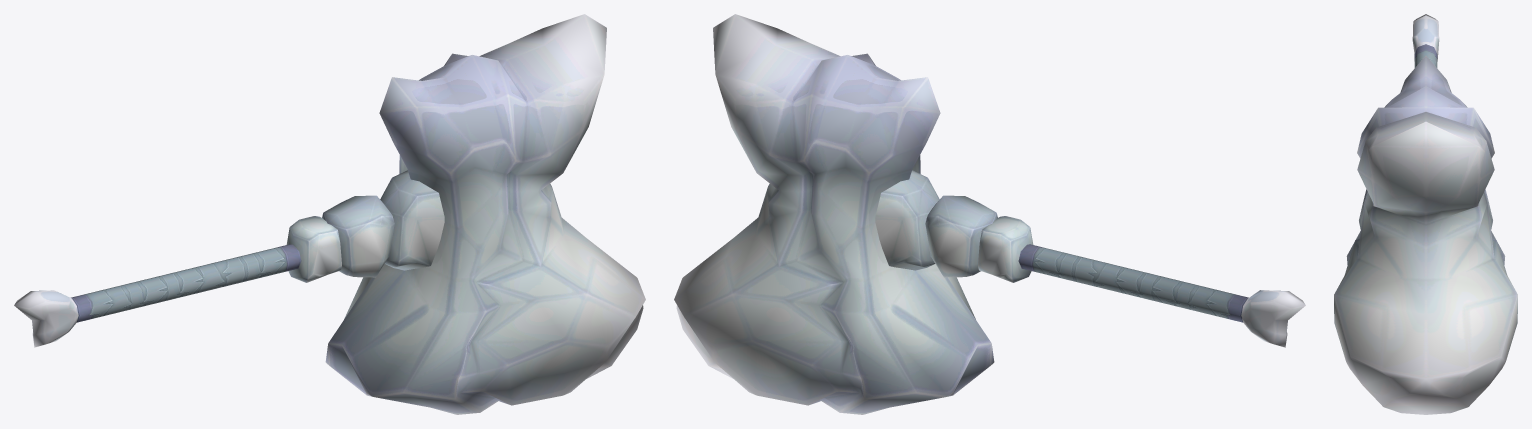
The model's file is item_weaaxtmgm2501-et06.glb.
3 views of the same model, side by side, from view 1: azimuth 30°, elevation 25°; view 2: azimuth 150°, elevation 25°; view 3: azimuth 270°, elevation 25° (orthographic). The views are drawn at different scales.
Parts seen in each view (by area): view 1: FlyffMesh; view 2: FlyffMesh; view 3: FlyffMesh.
Boxes of the visible parts, <box> form: FlyffMesh: <box>14,14,645,414</box>; FlyffMesh: <box>674,14,1305,414</box>; FlyffMesh: <box>1334,14,1517,414</box>.
Bounding box in the file's own units: 1.64 × 0.9058 × 0.4885.
1 material, 1 textured.
